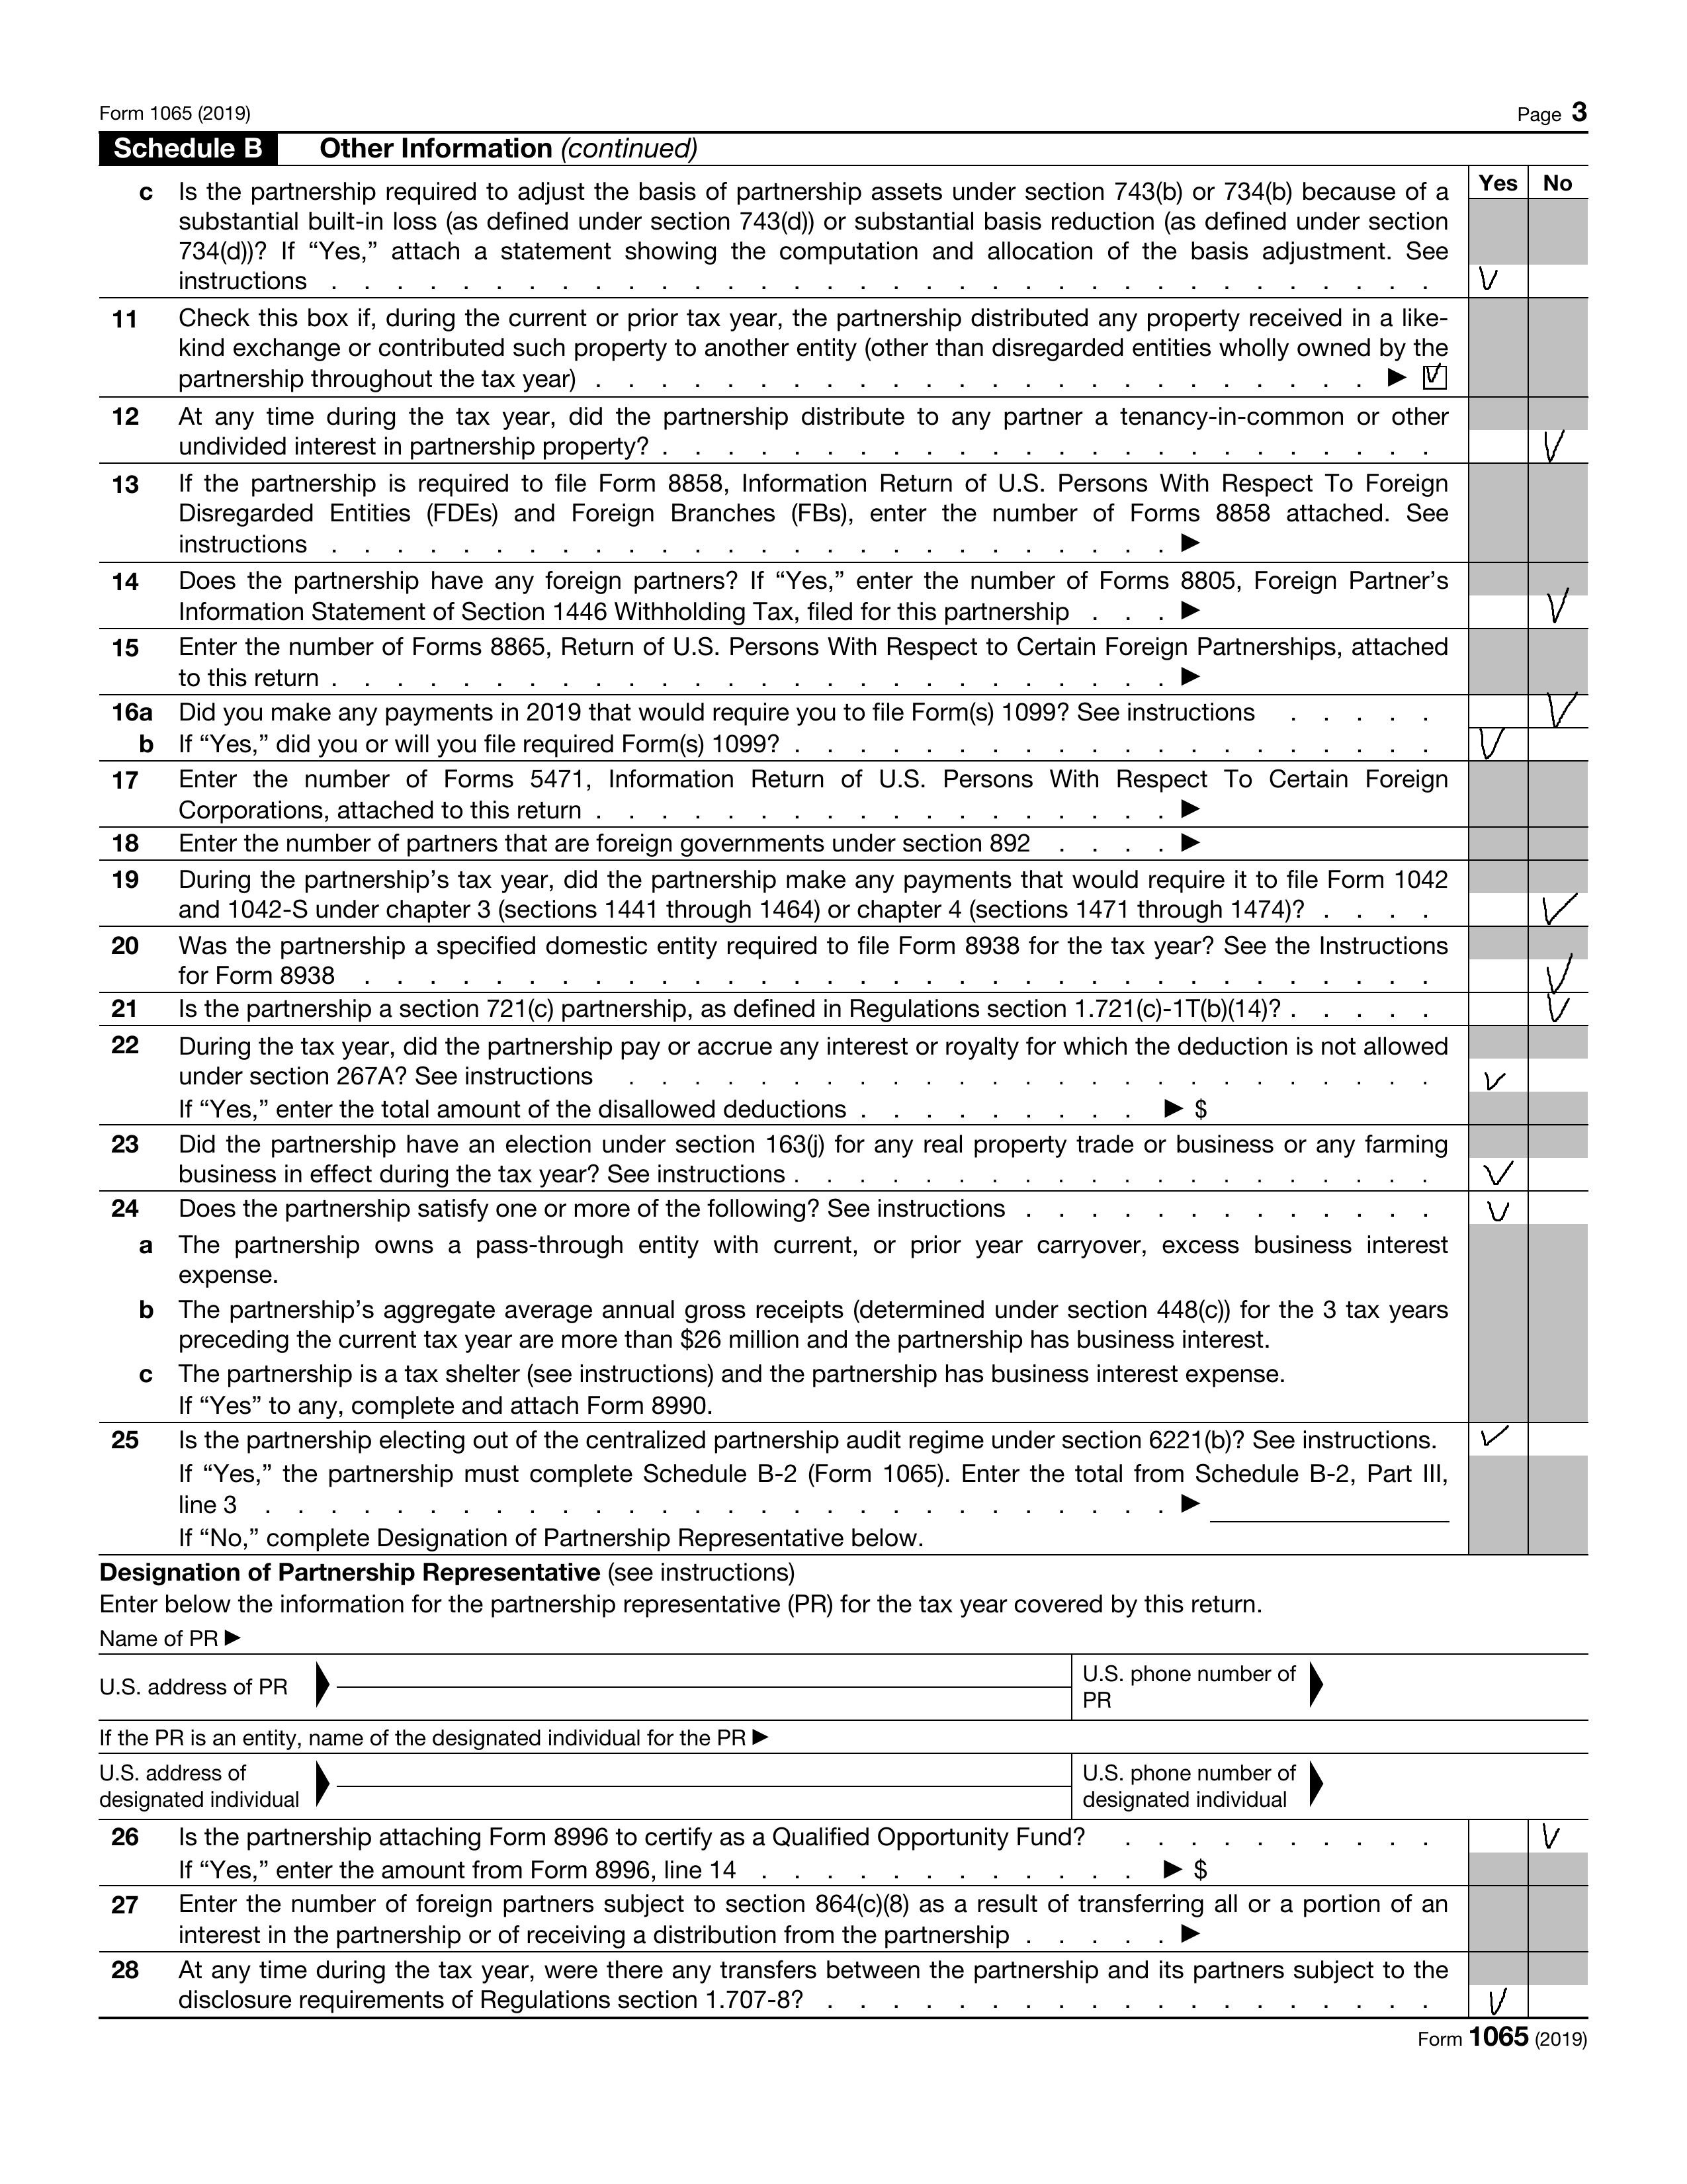checkmark: (1545, 694, 1584, 730), (1540, 895, 1581, 926), (1480, 1160, 1517, 1190), (1547, 955, 1575, 994), (1478, 730, 1510, 762), (1547, 588, 1572, 629), (1545, 994, 1574, 1026), (1480, 1426, 1510, 1454), (1542, 1823, 1566, 1855), (1543, 432, 1566, 466), (1478, 267, 1504, 296), (1487, 1201, 1513, 1228), (1489, 1989, 1510, 2019), (1483, 1072, 1510, 1095)
filled checkbox: (1423, 367, 1450, 393)
